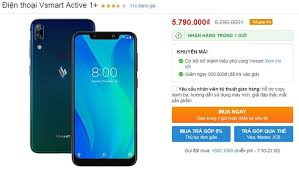vsmart: (25, 15, 96, 156), (69, 28, 140, 169)
